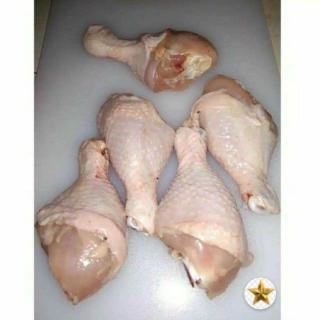Ayam: (154, 125, 257, 304), (35, 136, 134, 313), (189, 72, 283, 219), (95, 91, 180, 239), (82, 23, 223, 96)
